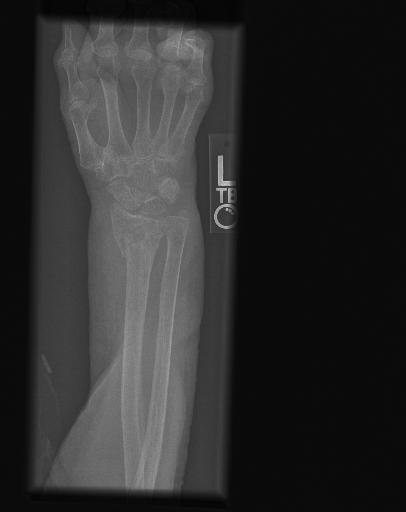fractured: (107, 222, 164, 258)
